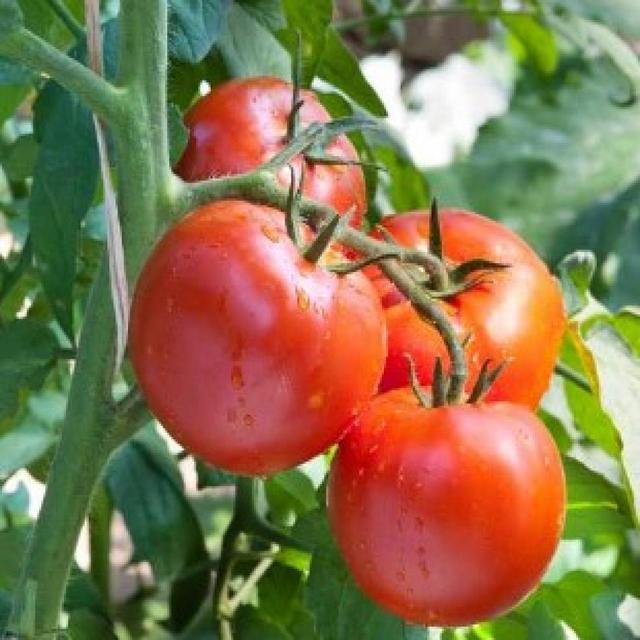Healthy Fruit: (128, 104, 313, 338)
